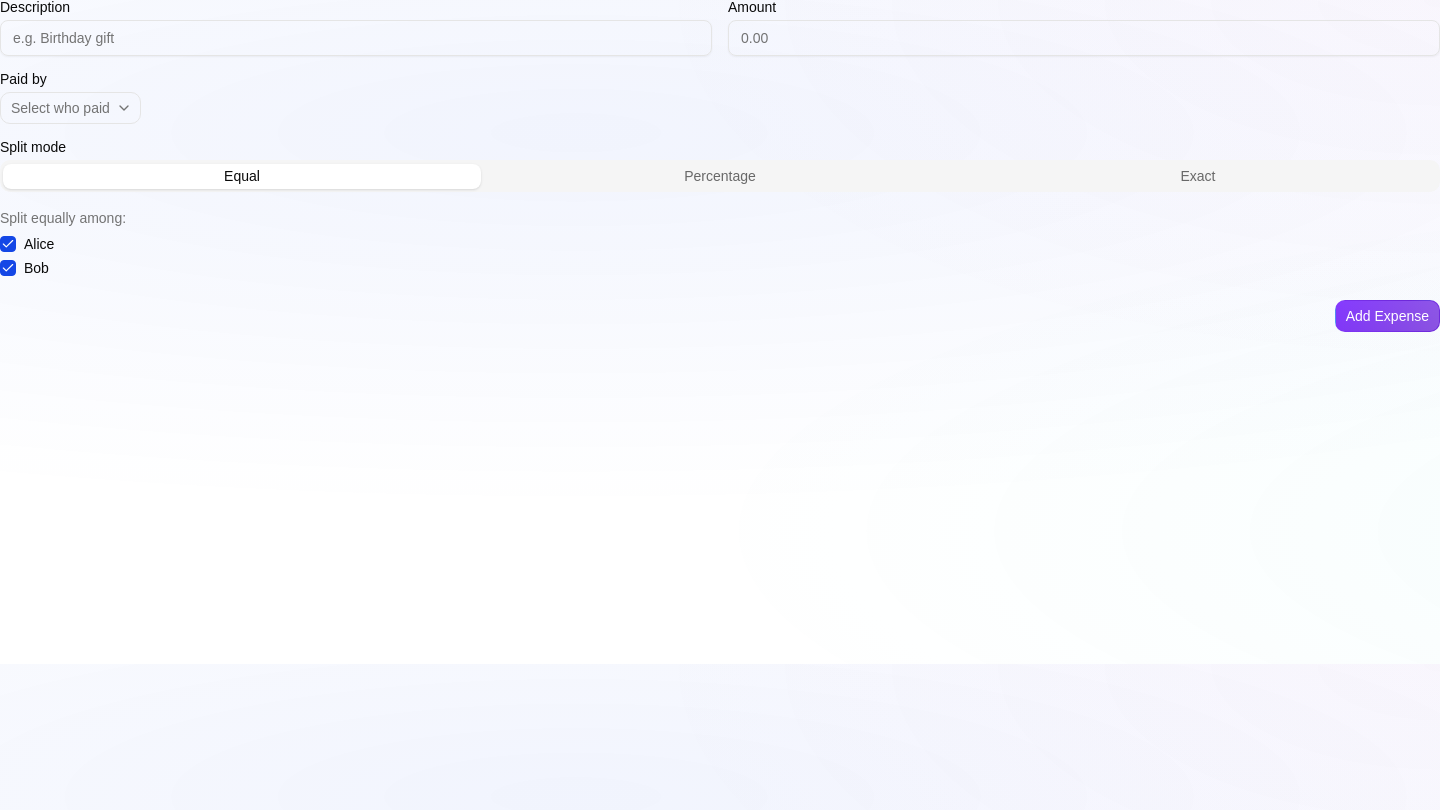
Test: ExpenseForm › split mode tabs › switches to exact mode when Exact tab clicked
Click the tab "Exact".
click(1198, 176)  # box [959, 164, 1437, 188]
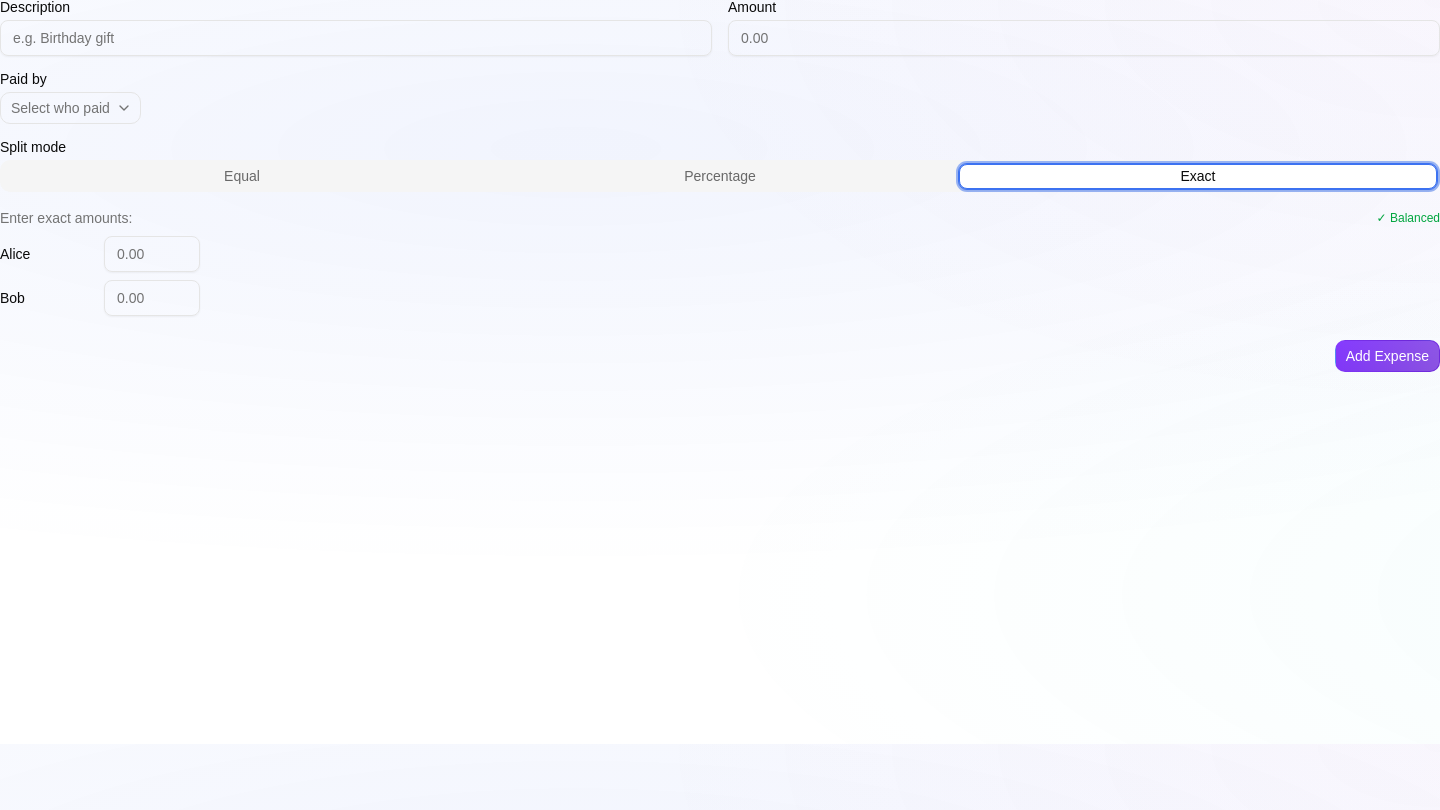
expect the text "Enter exact amounts:" is shown: met, box [0, 208, 132, 228]
